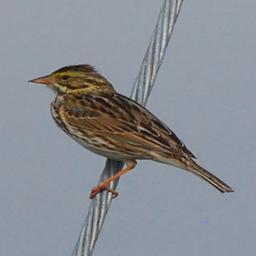Sparrow: (27, 62, 236, 200)
